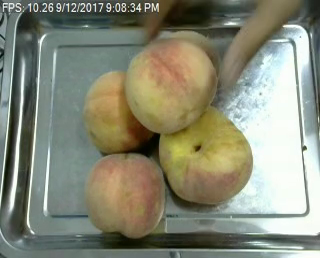Peach: (159, 105, 253, 204), (125, 36, 217, 135), (85, 151, 166, 238), (84, 70, 147, 154)
